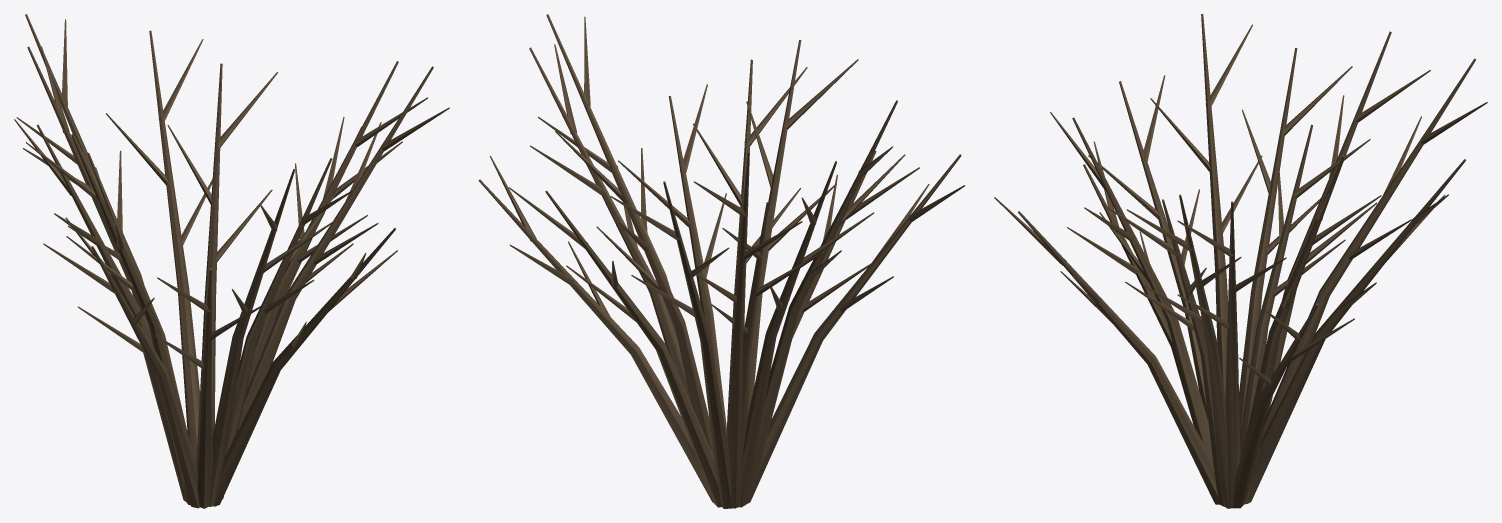
The model's file is bush_dead.glb.
The picture shows the model from 3 angles, left to right: view 1: azimuth 30°, elevation 25°; view 2: azimuth 150°, elevation 25°; view 3: azimuth 270°, elevation 25°; orthographic projection. The views are drawn at different scales.
Visible parts, largest first — view 1: bush_dead_wood; view 2: bush_dead_wood; view 3: bush_dead_wood.
Boxes of the visible parts, left/top/right/bottom form: bush_dead_wood: left=14, top=14, right=449, bottom=508; bush_dead_wood: left=478, top=14, right=965, bottom=508; bush_dead_wood: left=994, top=14, right=1487, bottom=508.
Size of the model in its own units: 1.07 by 1.05 by 1.11.
